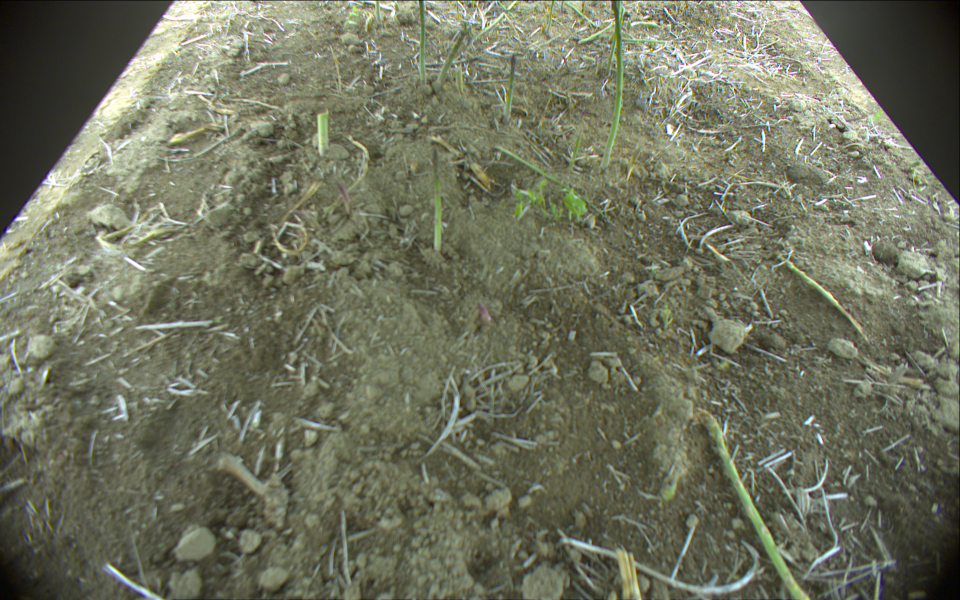aspa: (694, 409, 816, 600), (779, 256, 867, 342), (599, 1, 628, 168), (496, 145, 557, 182), (436, 29, 468, 86), (475, 1, 519, 42), (608, 8, 625, 79), (580, 21, 621, 46), (502, 52, 517, 118), (417, 1, 428, 84), (565, 1, 599, 27), (433, 147, 441, 254), (567, 132, 584, 182), (318, 108, 328, 156), (617, 36, 669, 43), (547, 1, 554, 32), (375, 1, 383, 24), (562, 1, 569, 14)
